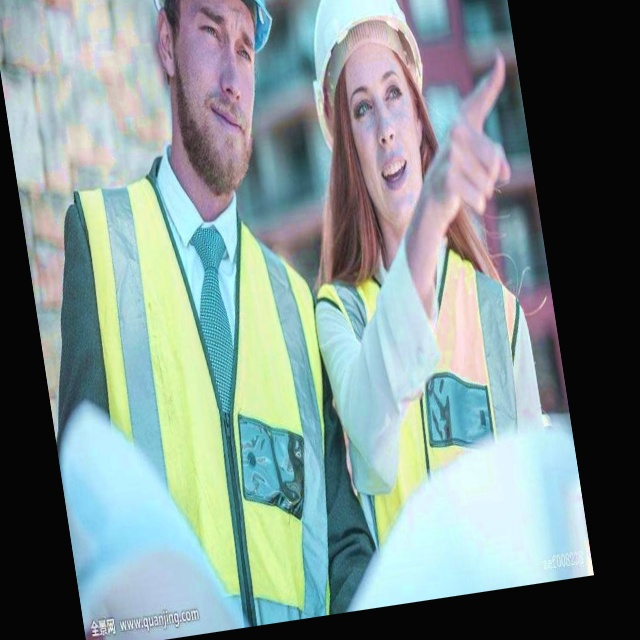Con_Casco: (297, 0, 444, 204)
Con_Chaleco: (55, 143, 356, 633)
